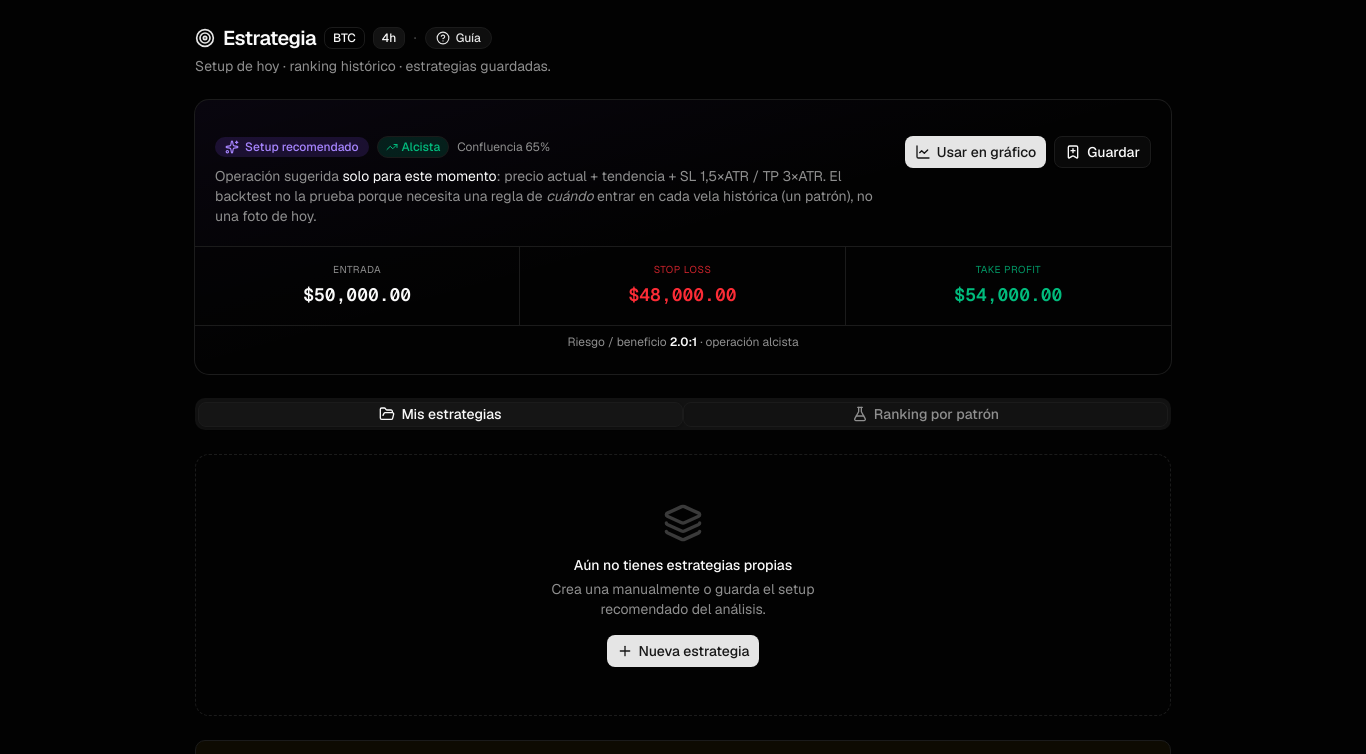
Test: StrategyPage › opens guide sheet with tabbed content
Click the button "Guía" at (458, 38), box top-left (425, 27), bottom-right (492, 49)
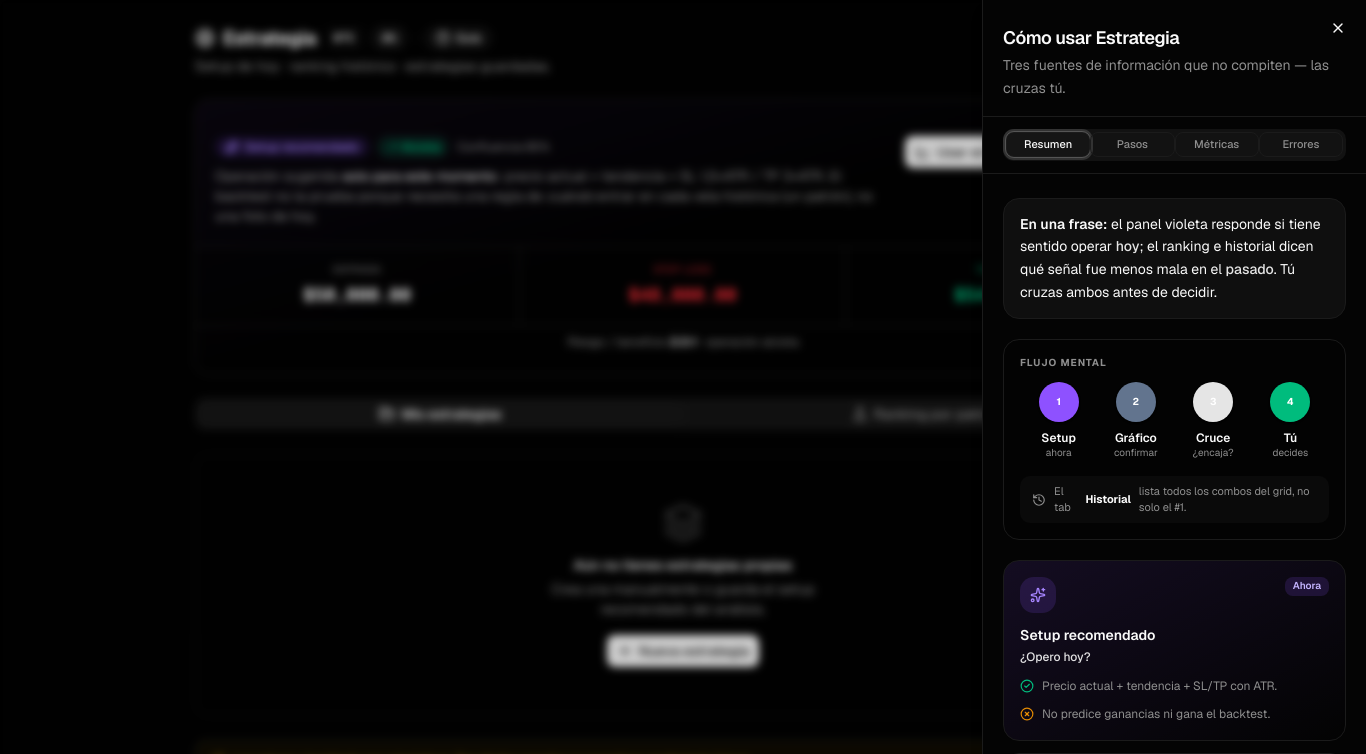
Expected: the heading "Cómo usar Estrategia" is shown, top-left (1003, 26), bottom-right (1179, 49)
Expected: the text "En una frase:" is shown, top-left (1020, 214), bottom-right (1107, 232)
Expected: the tab "Pasos" is shown, top-left (1090, 132), bottom-right (1175, 157)
